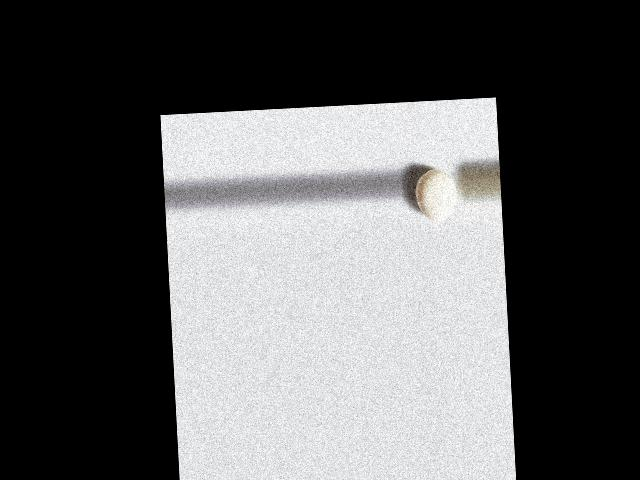egg: (414, 167, 457, 221)
